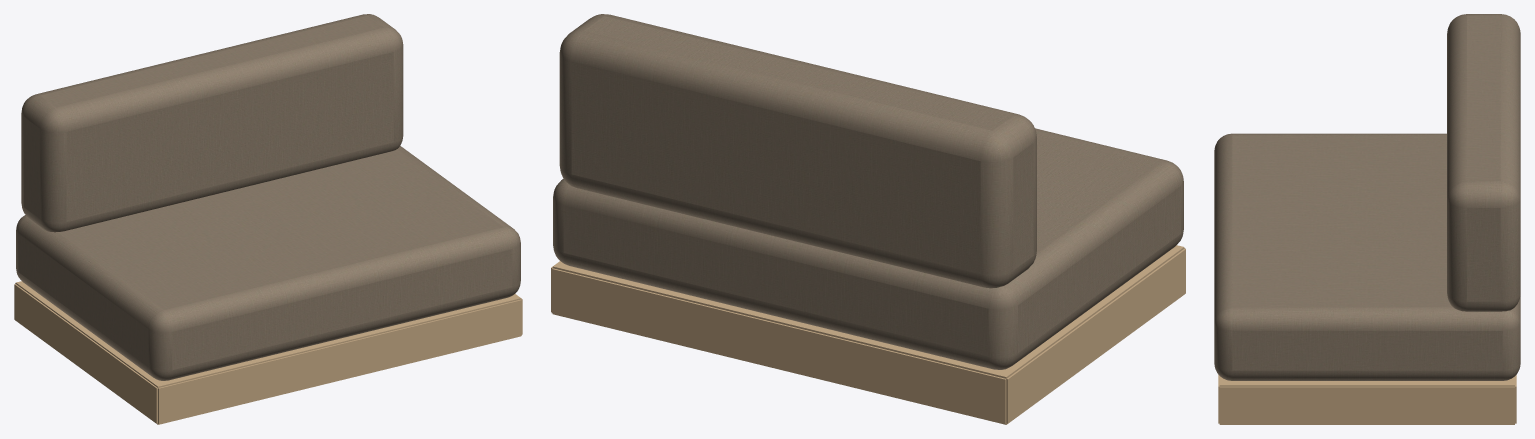
The picture shows the model from 3 angles, left to right: view 1: azimuth 30°, elevation 25°; view 2: azimuth 150°, elevation 25°; view 3: azimuth 270°, elevation 25°; orthographic projection. The views are drawn at different scales.
Parts seen in each view (by area): view 1: sf3s-101-1-seater; view 2: sf3s-101-1-seater; view 3: sf3s-101-1-seater.
Boxes of the visible parts, x1=… form: sf3s-101-1-seater: x1=14, y1=14, x2=522, y2=424; sf3s-101-1-seater: x1=551, y1=14, x2=1185, y2=424; sf3s-101-1-seater: x1=1214, y1=14, x2=1520, y2=424.
Size of the model in its own units: 1.11 by 0.65 by 0.77.
2 materials, 1 textured.
